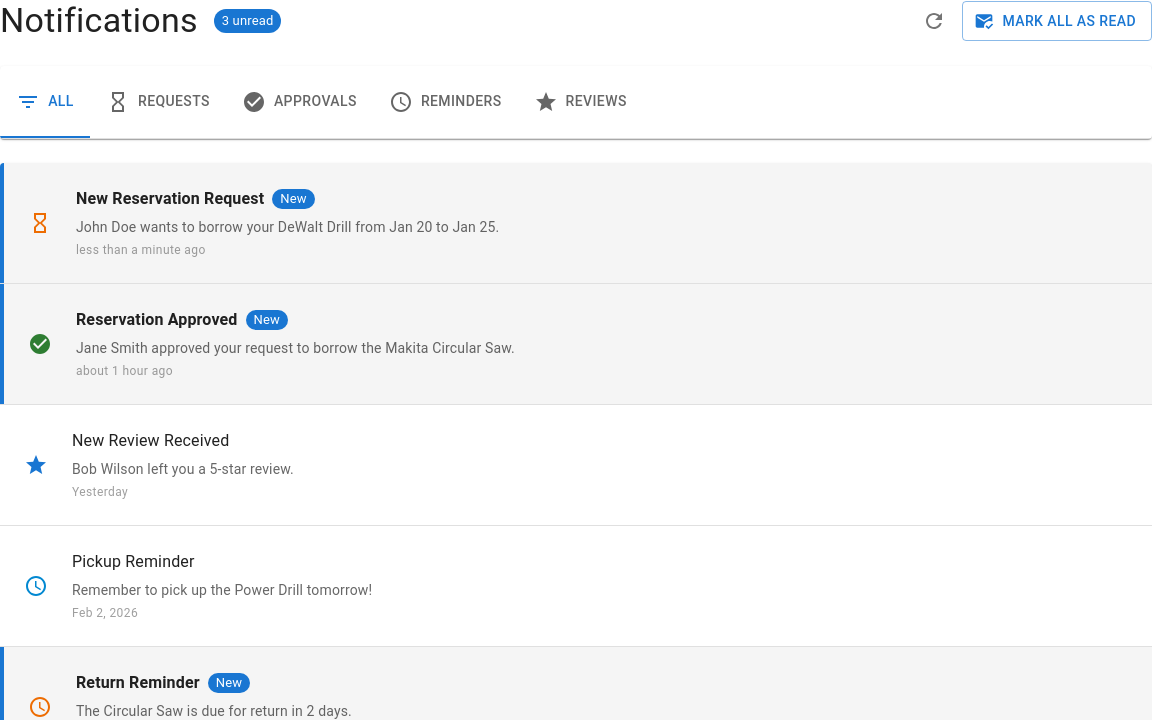
Test case: Notifications Page › Mark all as read › should update button state when clicked
Click the button "Mark all as read" at x=1057, y=21, box [962,1,1151,41]
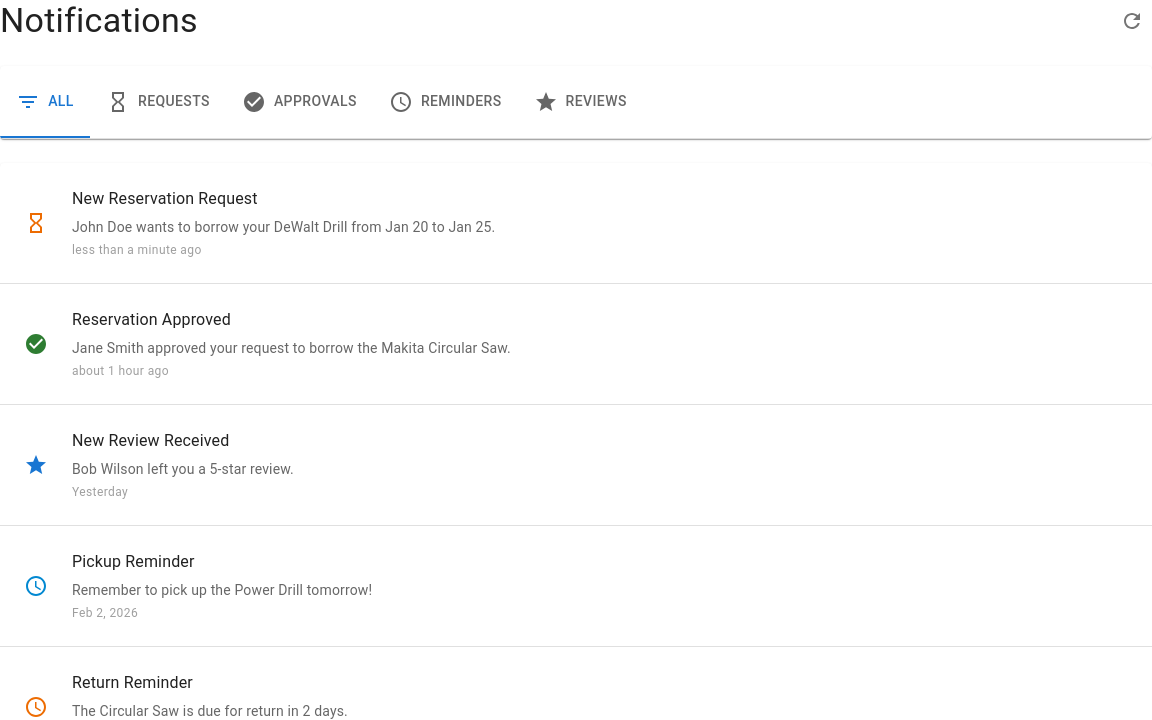
Now the button "Mark all as read" is gone
